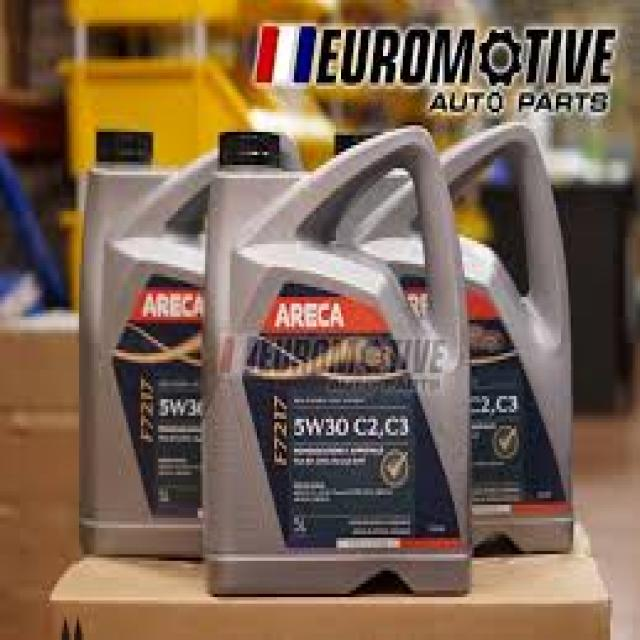motor_oil: (210, 120, 464, 602)
